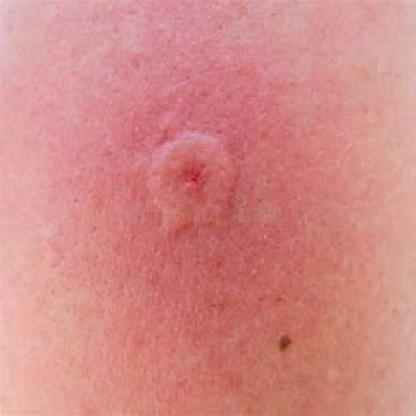Wasp: (133, 111, 262, 251)
